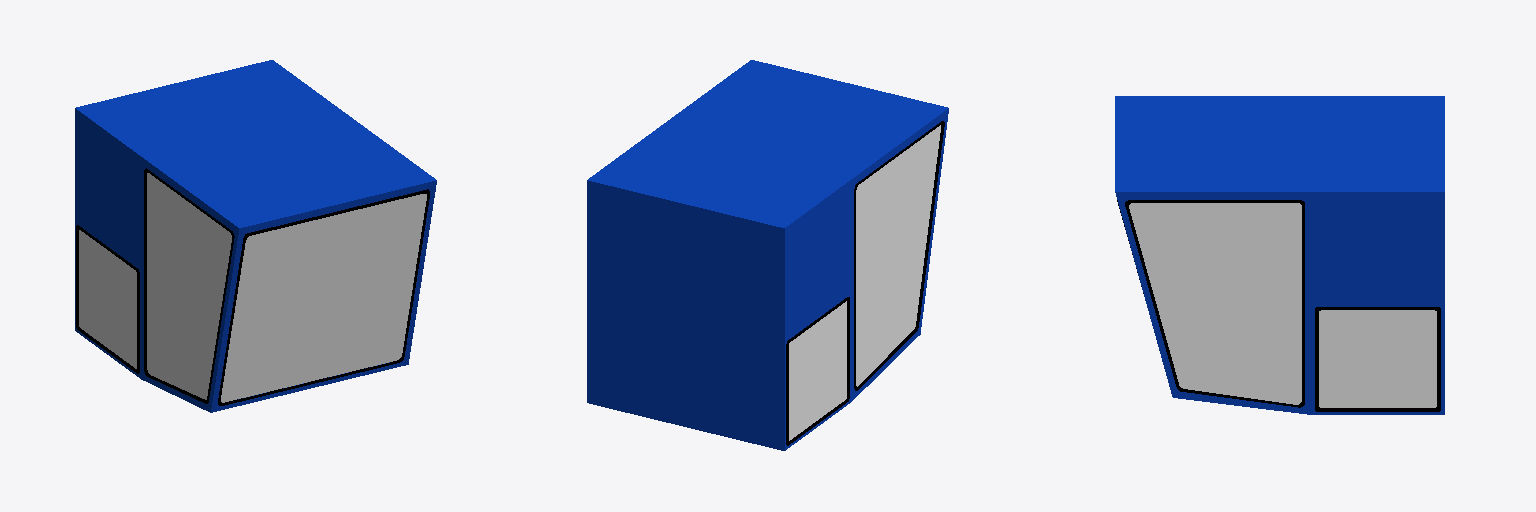
The model's file is Crane_ControllRoom.obj.
3 views of the same model, side by side, from view 1: azimuth 30°, elevation 25°; view 2: azimuth 150°, elevation 25°; view 3: azimuth 270°, elevation 25° (orthographic).
Parts seen in each view (by area): view 1: Cube.008_Cube, front_Cube.019, right_l_Cube.017, right_s_Cube.014, frame_front_Plane, frame_left_l_Plane.003, frame_left_s_Plane.004; view 2: Cube.008_Cube, right_l_Cube.017, right_s_Cube.014, frame_left_l_Plane.003, frame_left_s_Plane.004; view 3: Cube.008_Cube, left_l_Cube.016, left_s_Cube.015, frame_right_l_Plane.002, frame_right_s_Plane.005.
Boxes of the visible parts, box(x1,y1,x2,y2) form: Cube.008_Cube: box(75, 60, 436, 412); front_Cube.019: box(221, 194, 426, 402); right_l_Cube.017: box(147, 173, 231, 399); right_s_Cube.014: box(79, 230, 136, 368); frame_front_Plane: box(218, 189, 429, 405); frame_left_l_Plane.003: box(144, 168, 234, 403); frame_left_s_Plane.004: box(76, 225, 139, 373); Cube.008_Cube: box(587, 60, 948, 450); right_l_Cube.017: box(856, 125, 940, 386); right_s_Cube.014: box(789, 301, 846, 440); frame_left_l_Plane.003: box(854, 121, 944, 390); frame_left_s_Plane.004: box(786, 297, 849, 445); Cube.008_Cube: box(1115, 96, 1444, 414); left_l_Cube.016: box(1129, 203, 1301, 404); left_s_Cube.015: box(1319, 310, 1436, 407); frame_right_l_Plane.002: box(1125, 200, 1304, 407); frame_right_s_Plane.005: box(1315, 307, 1440, 411).
Bounding box in the file's own units: 4.45 × 4.8 × 6.4.